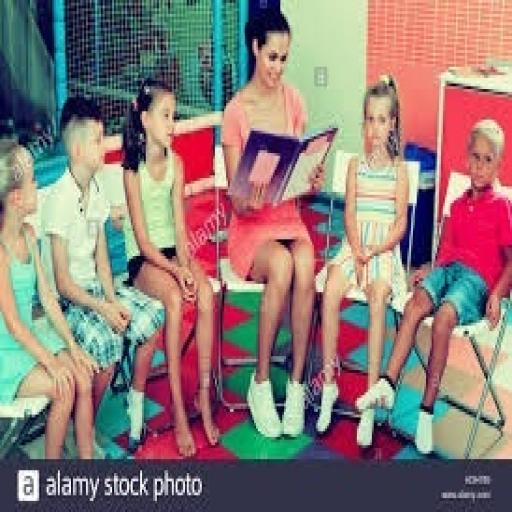sitting: (2, 8, 510, 456), (353, 114, 510, 454), (38, 92, 166, 456), (219, 6, 325, 440), (120, 72, 222, 456), (312, 72, 411, 437), (0, 134, 99, 459)
